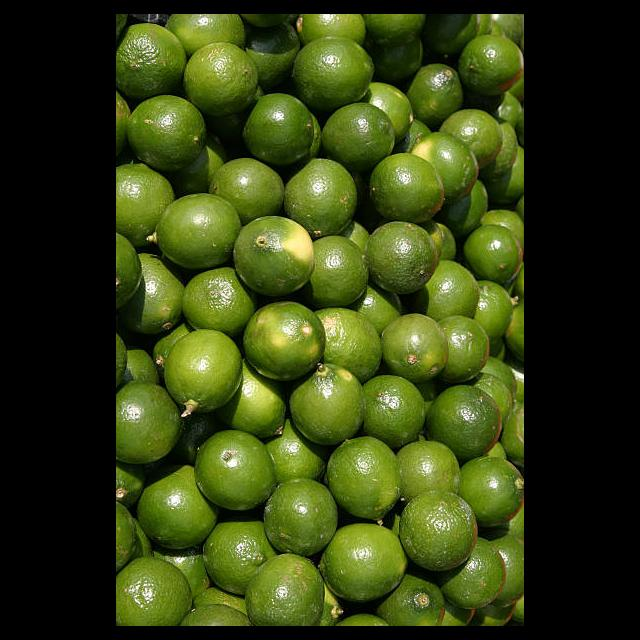lime: (241, 302, 327, 385), (195, 430, 279, 514), (397, 491, 478, 575), (233, 216, 314, 297), (264, 479, 338, 562), (242, 93, 319, 168), (211, 156, 286, 227), (116, 558, 194, 626), (369, 222, 438, 296)
